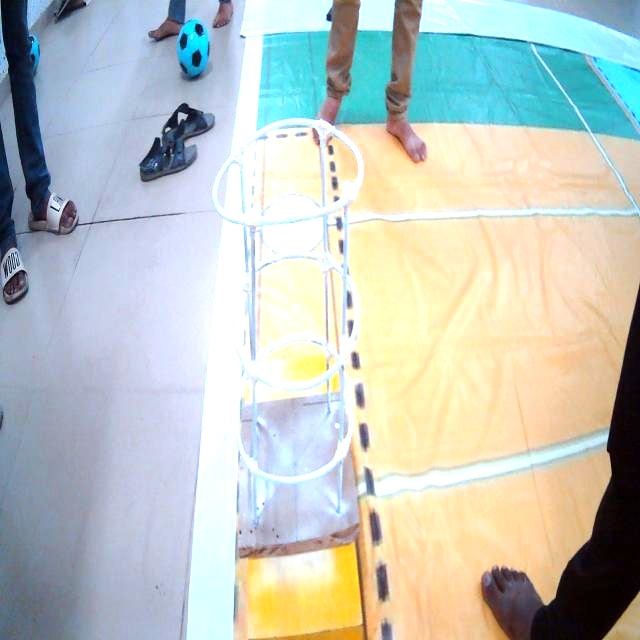silo: (215, 118, 360, 540)
